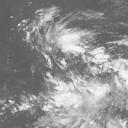cyclone: (39, 41, 108, 109)
